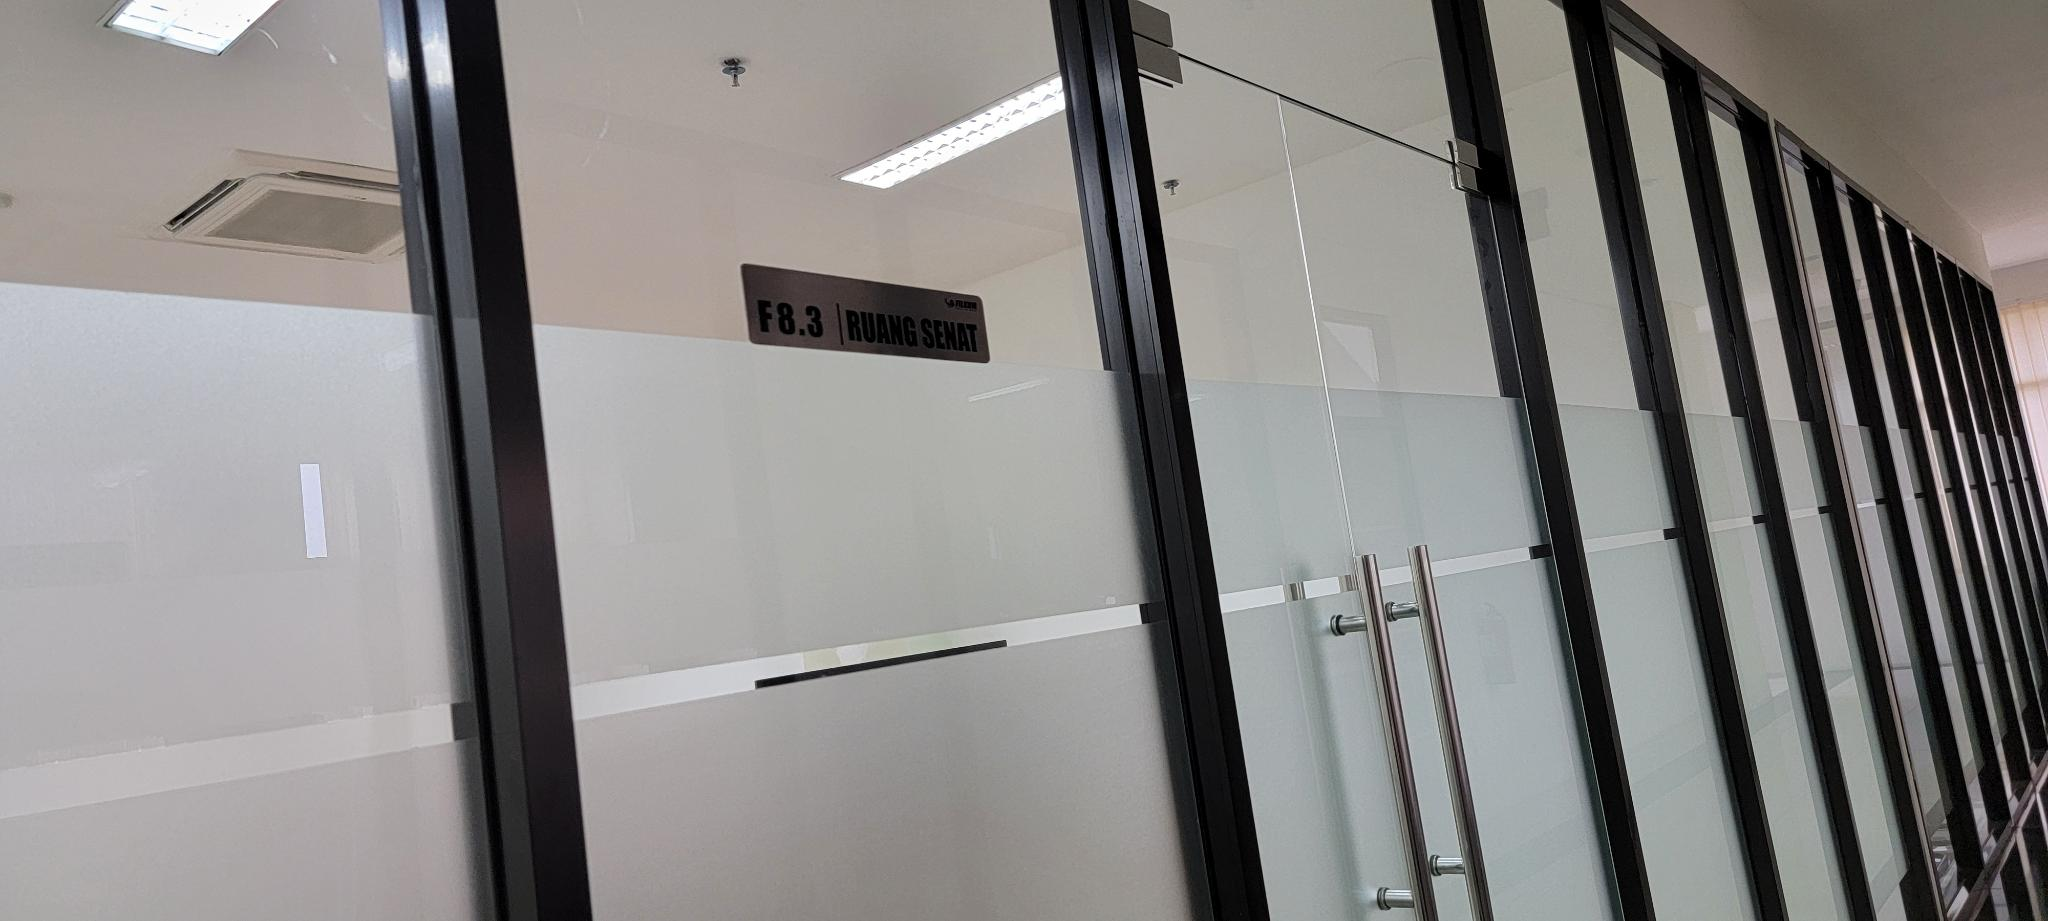plate: (739, 264, 993, 363)
